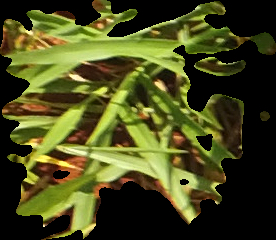grass: (1, 1, 275, 240)
